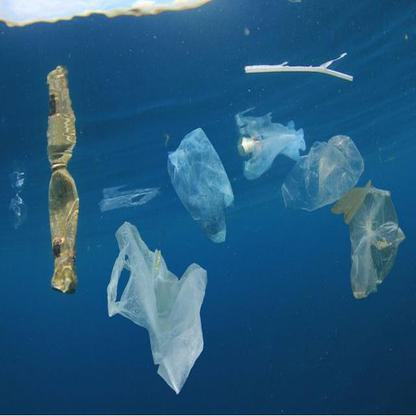plastic bag: (104, 221, 206, 393), (165, 127, 234, 241), (341, 184, 407, 298), (282, 135, 364, 211), (236, 112, 307, 179)
plastic bottle: (47, 159, 77, 294)
